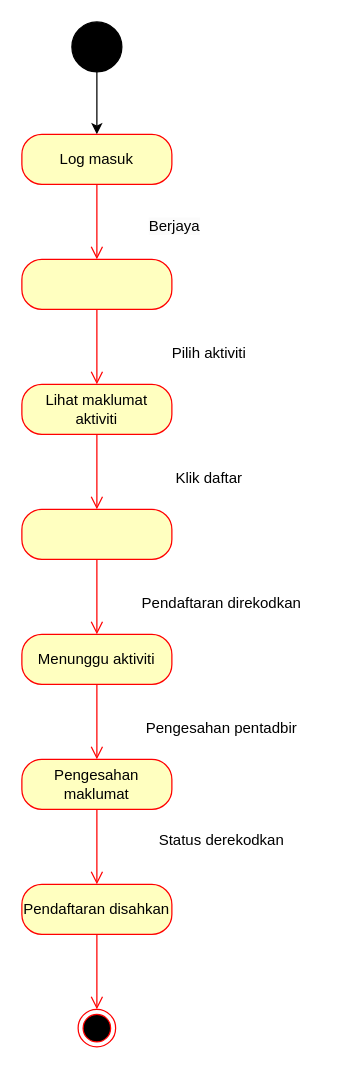
Image size: 344x1069. Some labels were removed from this diagram. The centre of each missing label's shape, as x and y in pixels:
"Daftar aktiviti" belongs at (96,533).
"Lihat Aktiviti" belongs at (96,283).
